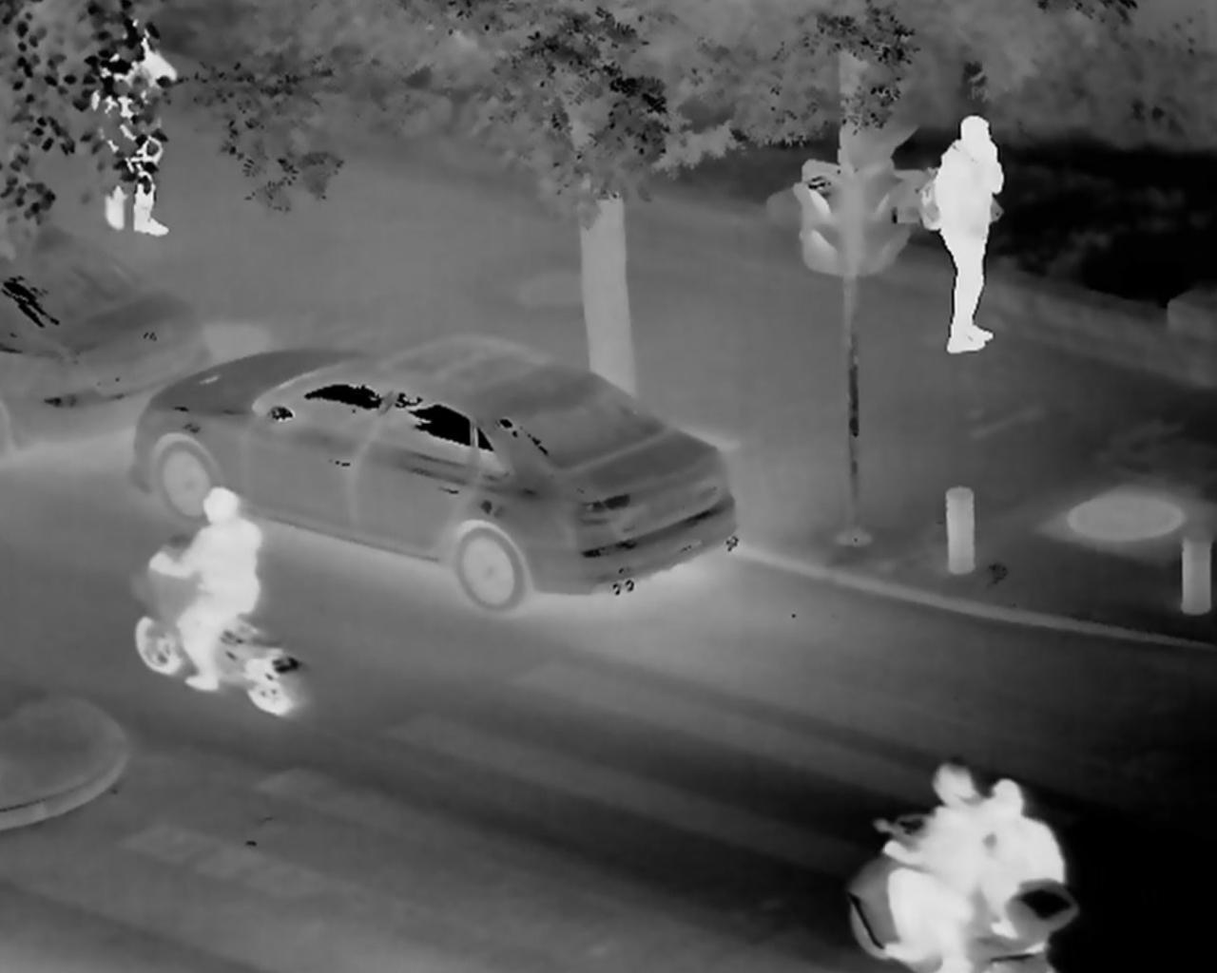person: (153, 490, 277, 698), (886, 754, 987, 973), (85, 16, 182, 232), (930, 117, 1008, 357), (978, 781, 1065, 929)
